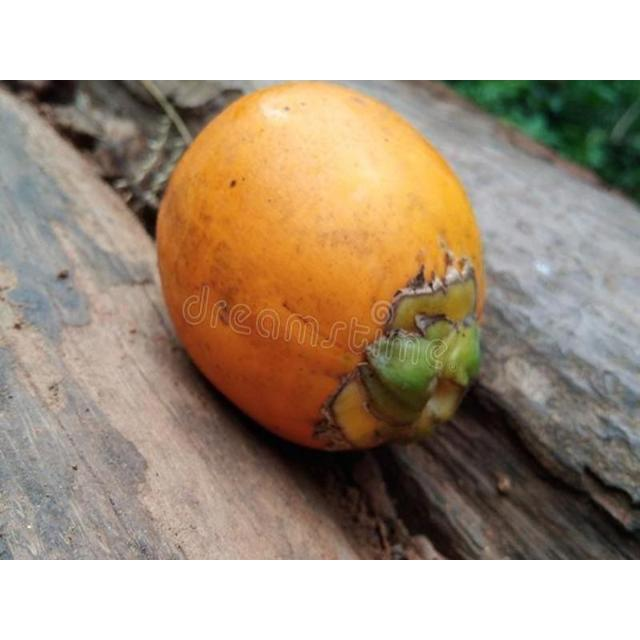good: (154, 82, 489, 454)
